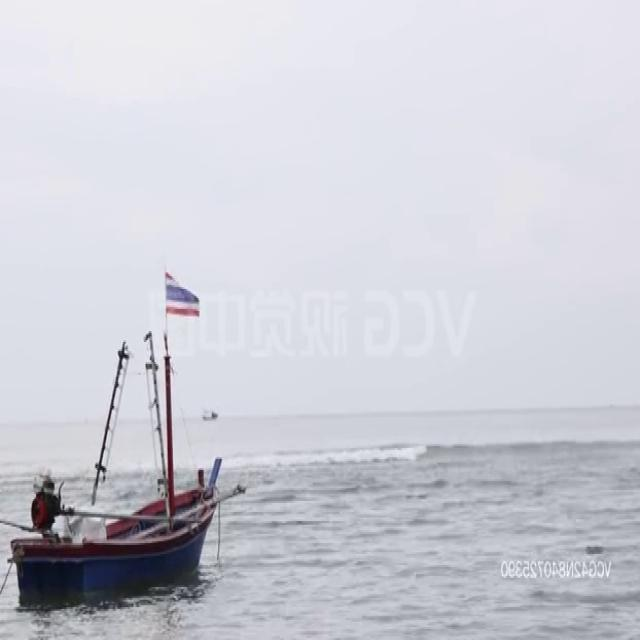fishing boat: (12, 312, 234, 608)
